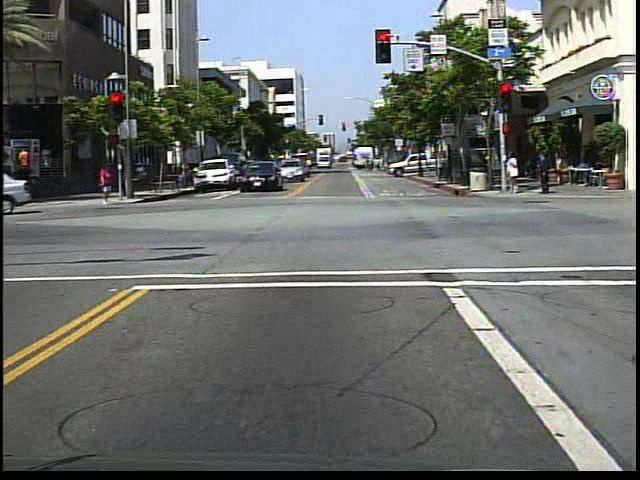person: (533, 147, 553, 196), (505, 149, 521, 198), (100, 162, 117, 208)
